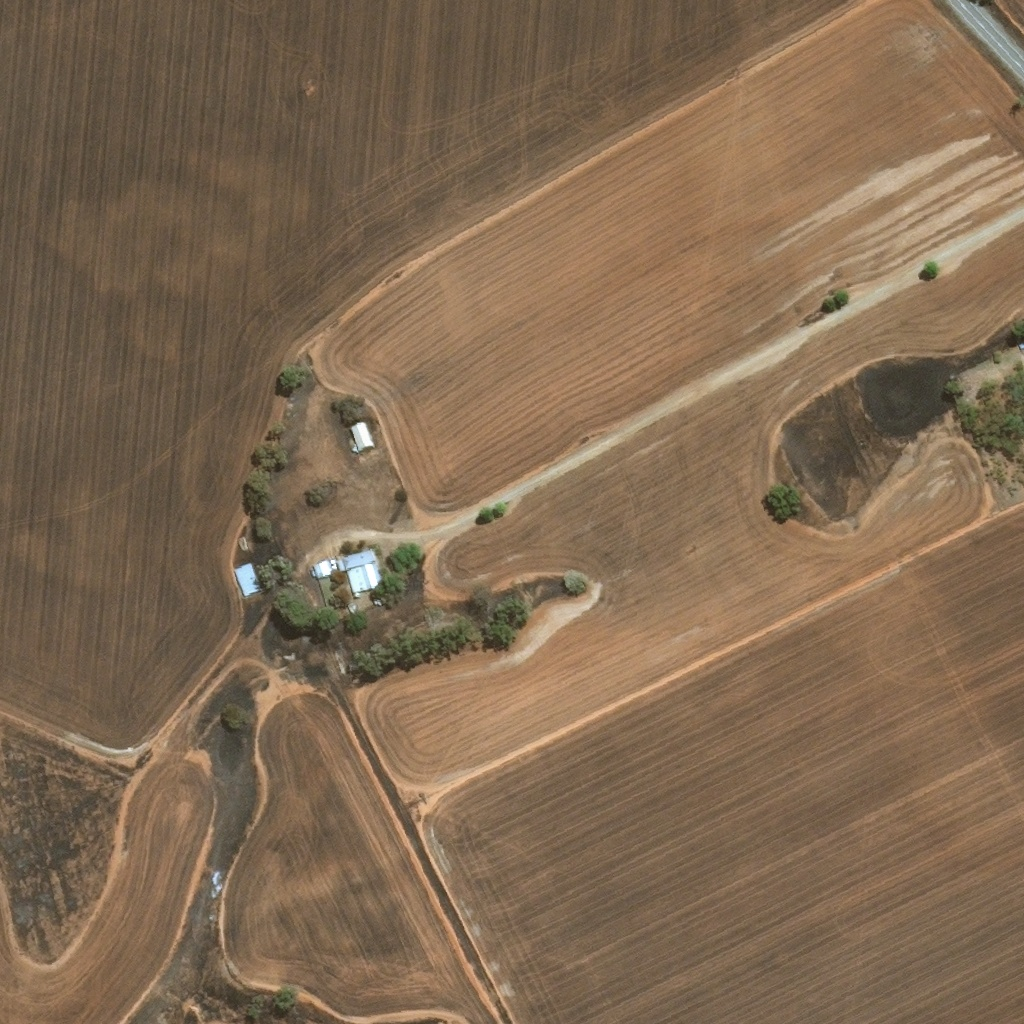0 no-damage: (336, 549, 383, 596), (234, 561, 261, 597), (350, 421, 372, 450), (312, 560, 330, 577)
